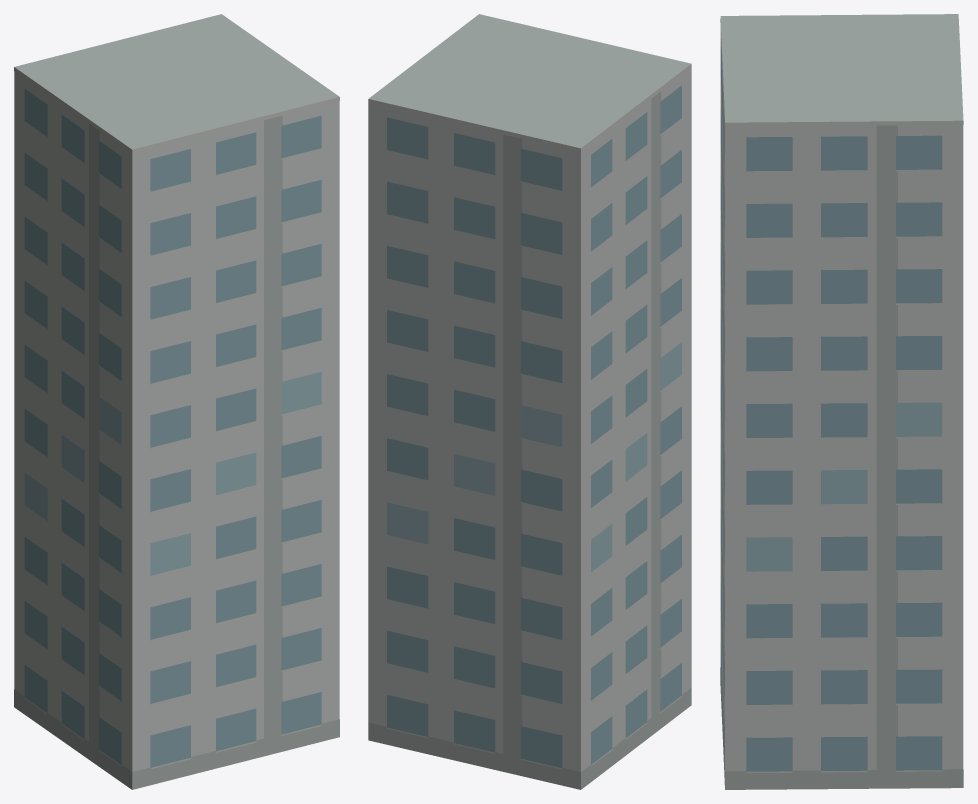
The model's file is residential-92eeacd5-bdff-402e-ae47-53ce411a7c83.glb.
The picture shows the model from 3 angles, left to right: view 1: azimuth 30°, elevation 25°; view 2: azimuth 150°, elevation 25°; view 3: azimuth 270°, elevation 25°; orthographic projection. The views are drawn at different scales.
Parts seen in each view (by area): view 1: residential-92eeacd5-bdff-402e-ae47-53ce411a7c83.tmp; view 2: residential-92eeacd5-bdff-402e-ae47-53ce411a7c83.tmp; view 3: residential-92eeacd5-bdff-402e-ae47-53ce411a7c83.tmp.
Boxes of the visible parts, x1,y1,x2,y2 form: residential-92eeacd5-bdff-402e-ae47-53ce411a7c83.tmp: (14, 14, 339, 789); residential-92eeacd5-bdff-402e-ae47-53ce411a7c83.tmp: (368, 14, 691, 789); residential-92eeacd5-bdff-402e-ae47-53ce411a7c83.tmp: (720, 14, 963, 789).
Size of the model in its own units: 12.93 by 37 by 12.22.
